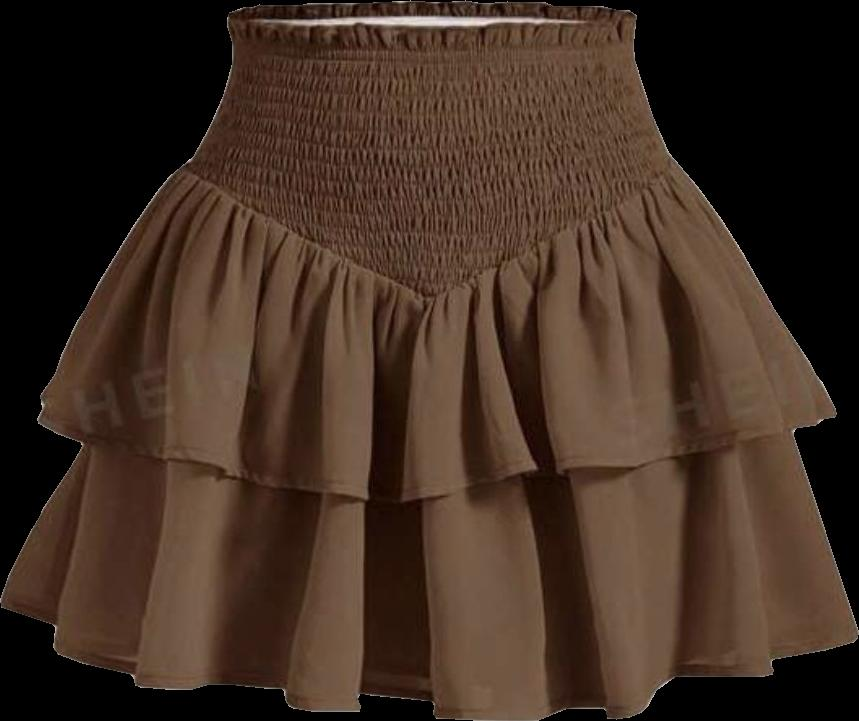Hemline: (0, 599, 858, 720), (37, 410, 838, 510)
Waistline: (185, 157, 676, 302), (227, 7, 631, 35)
